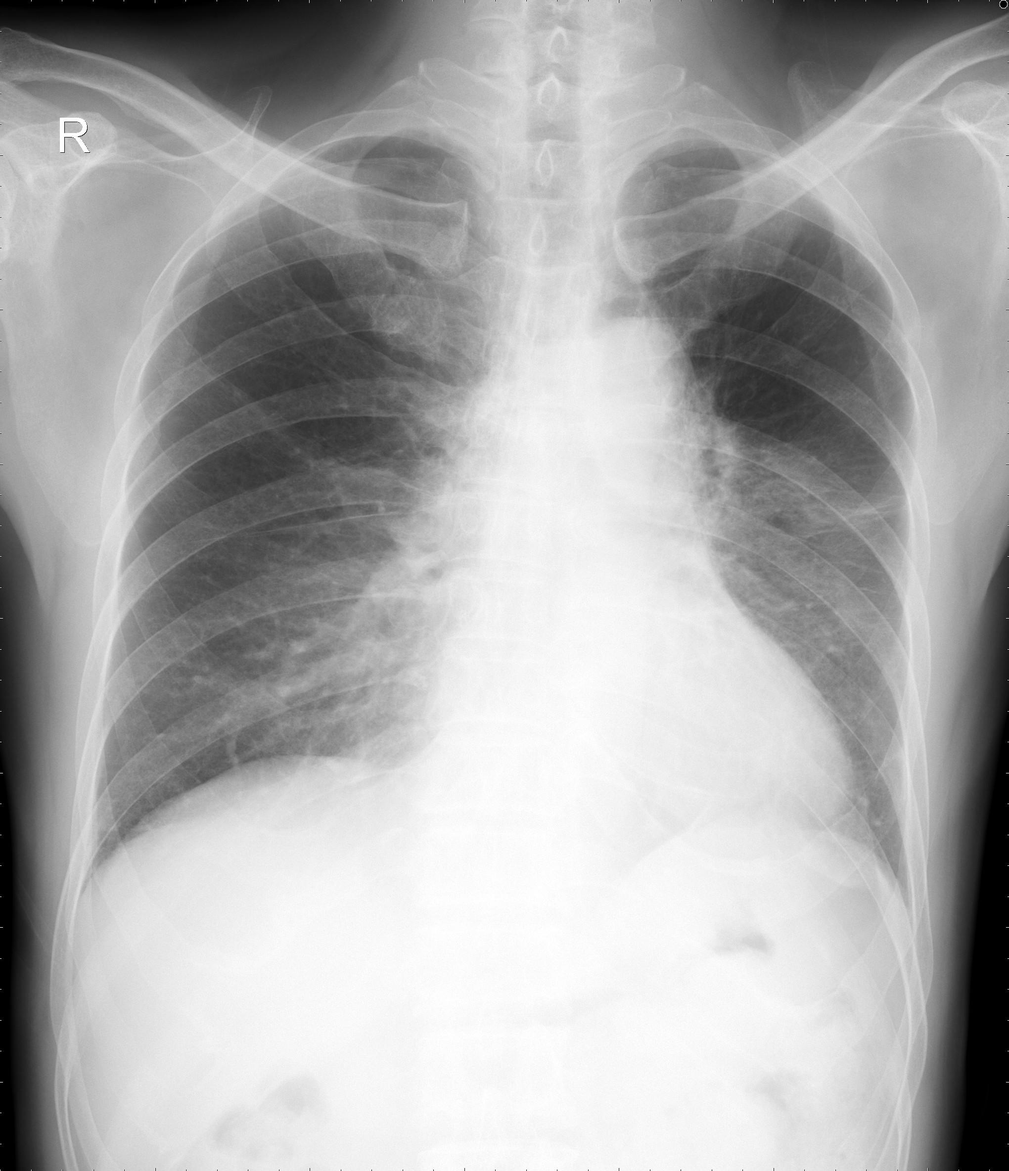Aortic enlargement: (561, 317, 702, 518)
Cardiomegaly: (389, 666, 862, 836)
Pulmonary fibrosis: (752, 462, 921, 537)
